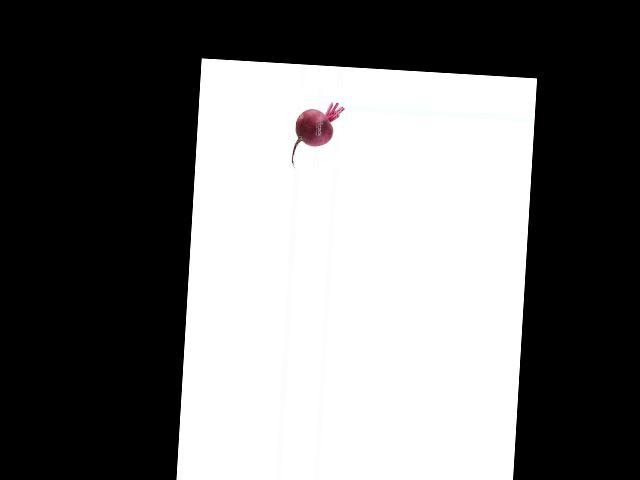beet: (291, 100, 344, 171)
